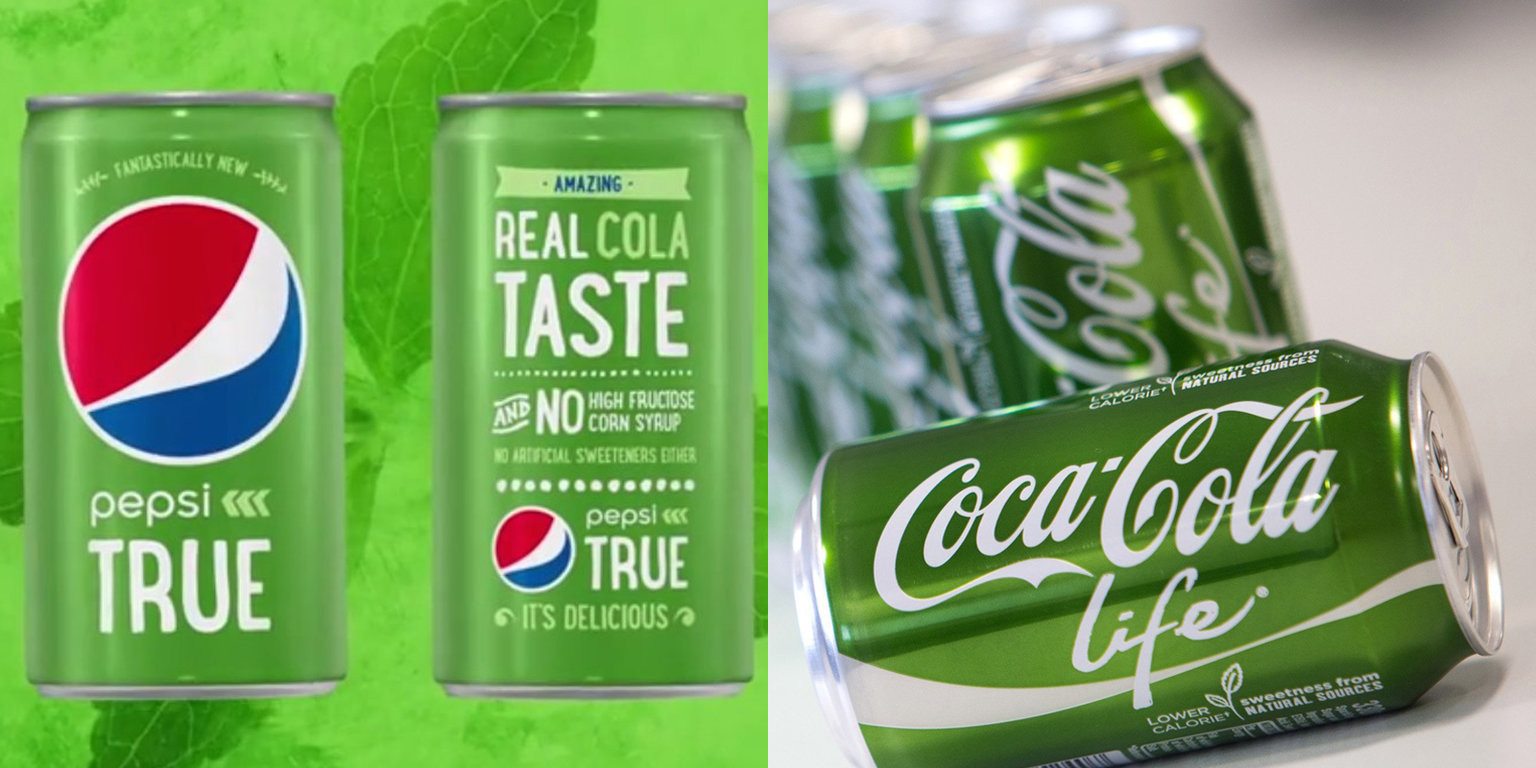pepsi: (48, 196, 310, 463), (54, 191, 310, 463), (486, 503, 578, 591), (486, 503, 576, 591), (490, 503, 578, 591), (486, 506, 576, 591)
